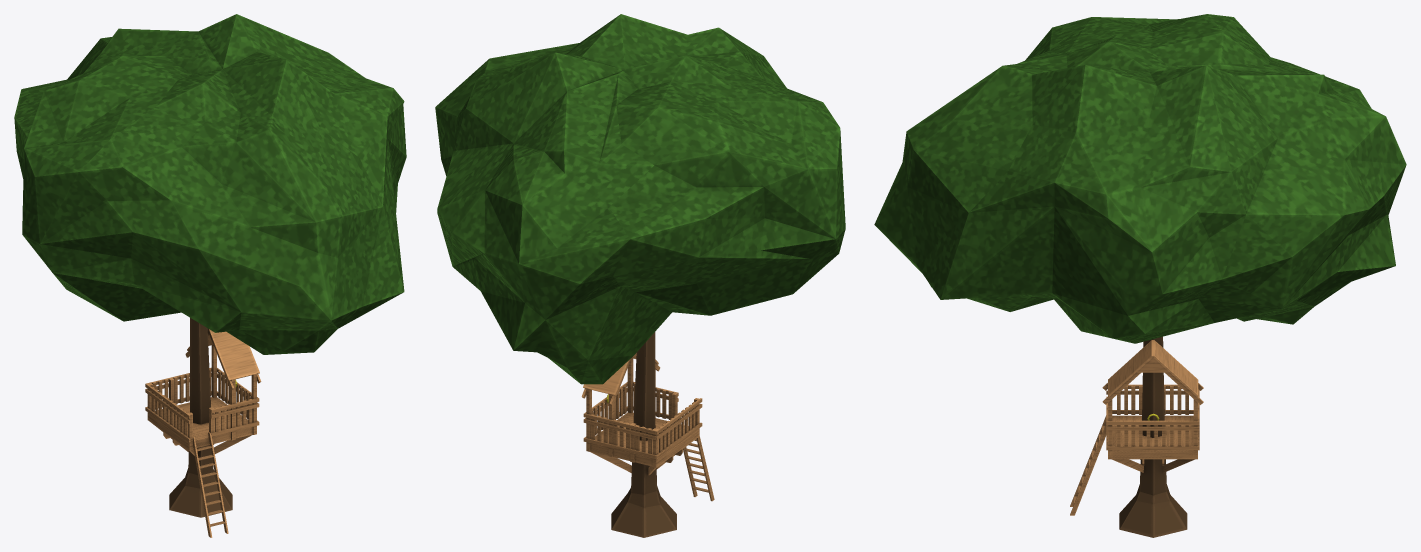
The picture shows the model from 3 angles, left to right: view 1: azimuth 30°, elevation 25°; view 2: azimuth 150°, elevation 25°; view 3: azimuth 270°, elevation 25°; orthographic projection. The views are drawn at different scales.
Visible parts, largest first — view 1: Treehouse_mesh; view 2: Treehouse_mesh; view 3: Treehouse_mesh.
Part boxes in pixels (x1=…): Treehouse_mesh: x1=14, y1=14, x2=406, y2=537; Treehouse_mesh: x1=435, y1=14, x2=845, y2=537; Treehouse_mesh: x1=874, y1=14, x2=1406, y2=537.
Bounding box in the file's own units: 30.33 × 34.42 × 34.05.
1 material, 1 textured.
